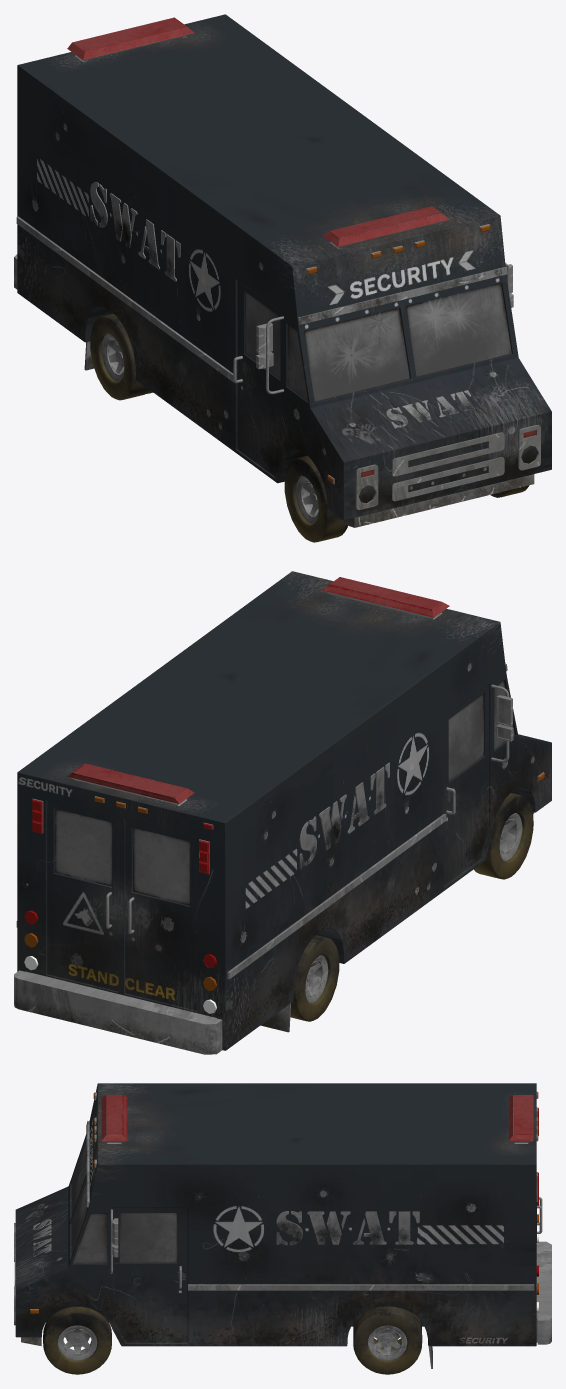
File: riot-van.glb
3 views of the same model, one above another, from view 1: azimuth 30°, elevation 25°; view 2: azimuth 150°, elevation 25°; view 3: azimuth 270°, elevation 25° (orthographic). The views are drawn at different scales.
Visible parts, largest first — view 1: Main Body.058_56, Main Body.060_58, Main Body.059_57, Main Body.074_69, Main Body.022_22, Main Body.067_65, Swat Left.002_72, Main Body.021_21, Main Body_1, Main Body.025_25, Main Body.024_24, Main Body.013_13 (+8 smaller); view 2: Main Body.058_56, Main Body.001_2, Main Body.002_3, Main Body.003_4, Swat Left.002_72, Main Body.074_69, Main Body.067_65, Main Body.021_21, Main Body.062_60, Main Body.022_22, Main Body.025_25, Main Body.073_68 (+1 smaller); view 3: Main Body.058_56, Main Body.061_59, Main Body.067_65, Main Body.074_69, Swat Left_70, Main Body.023_23, Main Body.001_2, Main Body.063_61, Main Body.021_21, Main Body.022_22, Main Body.073_68, Main Body.066_64 (+3 smaller).
Boxes of the visible parts, x1,y1,x2,y2 form: Main Body.058_56: (17,14,551,520); Main Body.060_58: (304,308,409,401); Main Body.059_57: (406,283,511,376); Main Body.074_69: (284,456,529,542); Main Body.022_22: (67,17,194,60); Main Body.067_65: (90,313,149,400); Swat Left.002_72: (90,182,180,281); Main Body.021_21: (322,206,449,247); Main Body_1: (341,474,534,527); Main Body.025_25: (16,216,233,382); Main Body.024_24: (297,267,507,324); Main Body.013_13: (392,457,504,501); Main Body.058_56: (17,571,551,1050); Main Body.001_2: (14,970,222,1054); Main Body.002_3: (55,809,112,886); Main Body.003_4: (133,828,190,905); Swat Left.002_72: (299,762,389,869); Main Body.074_69: (474,793,533,879); Main Body.067_65: (290,935,339,1021); Main Body.021_21: (322,577,449,618); Main Body.062_60: (448,694,483,781); Main Body.022_22: (67,763,194,804); Main Body.025_25: (227,813,446,979); Main Body.073_68: (499,813,522,860); Main Body.058_56: (15,1083,536,1346); Main Body.061_59: (119,1212,177,1262); Main Body.067_65: (353,1306,422,1374); Main Body.074_69: (43,1306,111,1374); Swat Left_70: (276,1211,419,1245); Main Body.023_23: (188,1284,534,1290); Main Body.001_2: (536,1241,551,1344); Main Body.063_61: (72,1213,107,1263); Main Body.021_21: (101,1095,127,1142); Main Body.022_22: (508,1095,533,1142); Main Body.073_68: (57,1325,97,1360); Main Body.066_64: (368,1325,407,1360).
Size of the model in its own units: 2.83 by 2.92 by 6.48.
6 materials, 6 textured.
